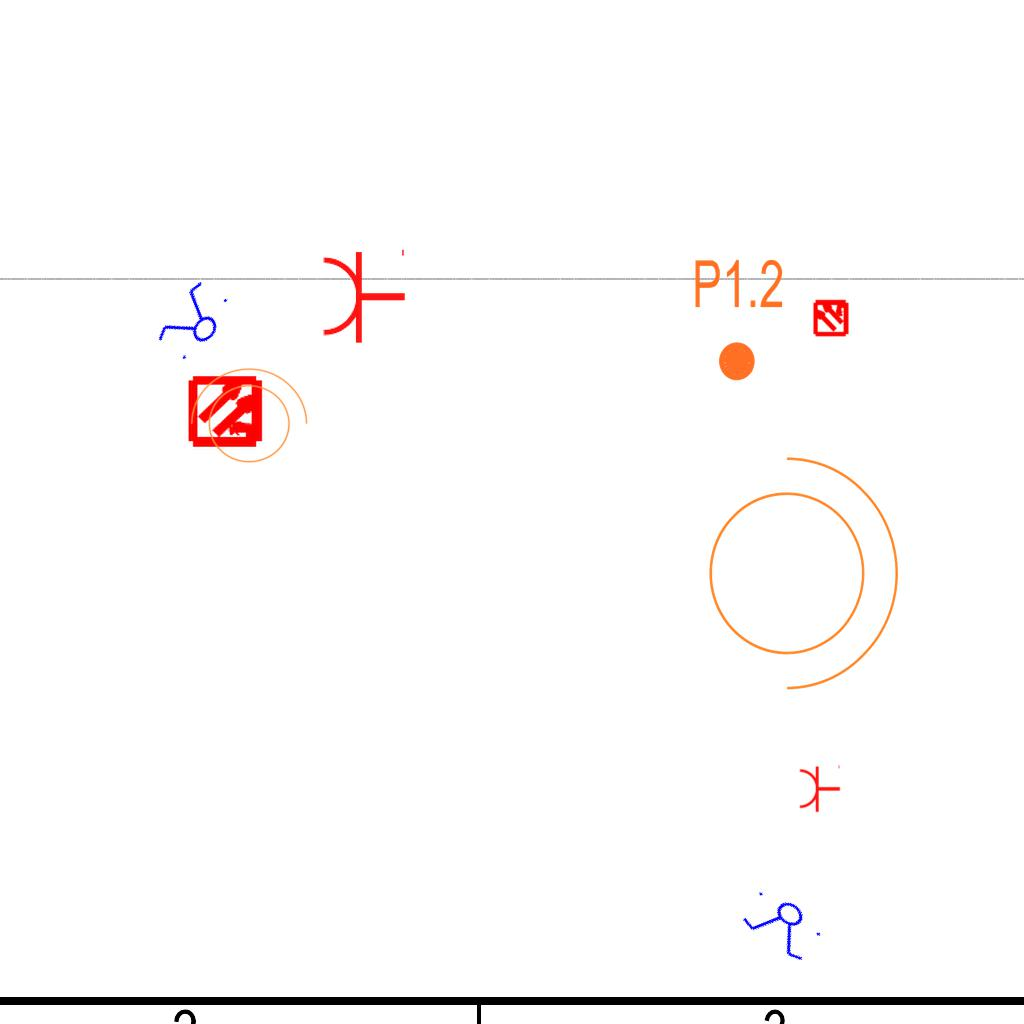Downlight_LED_Einbauleuchten_Flur: (692, 256, 785, 384)
OT_Multisensormelder_(Kombination_RMO_WMD): (171, 355, 284, 468), (803, 289, 859, 345)
Scheinwerfer_fuer_Alarmbeleuchtung: (684, 435, 909, 699), (180, 363, 312, 475)
Schukosteckdose_einfach: (320, 245, 407, 345), (798, 763, 841, 813)
Serienschalter: (149, 273, 239, 371), (734, 881, 832, 969)
